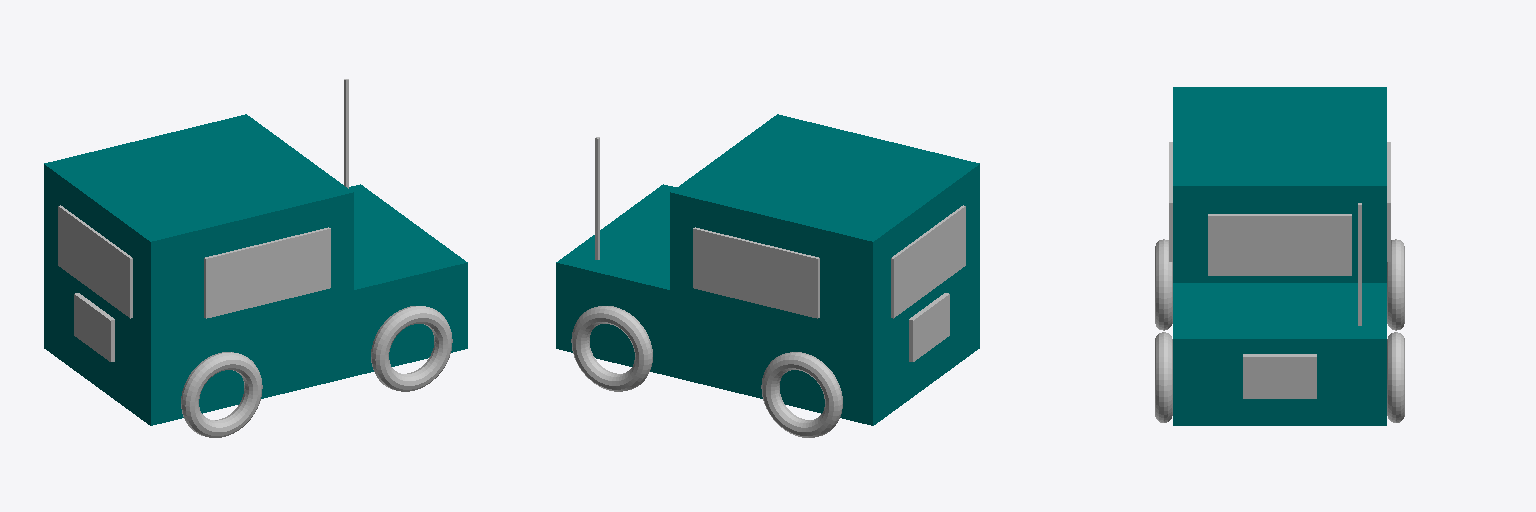
The picture shows the model from 3 angles: view 1: azimuth 30°, elevation 25°; view 2: azimuth 150°, elevation 25°; view 3: azimuth 270°, elevation 25°; orthographic projection.
Parts seen in each view (by area): view 1: Cube, Cube.001, Cube.003, Cube.006, Torus.002, Torus.003, Cube.004, Cube.002; view 2: Cube, Cube.001, Cube.007, Cube.006, Torus, Torus.001, Cube.004, Cube.002; view 3: Cube, Cube.001, Cube.008, Cube.005, Torus, Torus.002, Torus.001, Torus.003.
Part boxes in pixels (x1,y1,x2,y2): Cube: (44, 114, 353, 339); Cube.001: (44, 184, 467, 425); Cube.003: (204, 227, 330, 318); Cube.006: (58, 205, 132, 318); Torus.002: (371, 306, 452, 391); Torus.003: (181, 352, 262, 437); Cube.004: (74, 293, 114, 361); Cube.002: (344, 79, 348, 188); Cube: (670, 114, 979, 339); Cube.001: (556, 184, 979, 425); Cube.007: (693, 227, 819, 318); Cube.006: (891, 205, 965, 318); Torus: (571, 306, 652, 391); Torus.001: (761, 352, 842, 437); Cube.004: (909, 293, 949, 361); Cube.002: (595, 137, 599, 259); Cube: (1173, 87, 1386, 282); Cube.001: (1173, 283, 1386, 425); Cube.008: (1208, 214, 1351, 275); Cube.005: (1243, 354, 1316, 398); Torus: (1387, 332, 1404, 422); Torus.002: (1155, 332, 1172, 422); Torus.001: (1387, 239, 1404, 330); Torus.003: (1155, 239, 1172, 330).
Size of the model in its own units: 10.32 by 6.96 by 6.84.
13 materials, 1 textured.